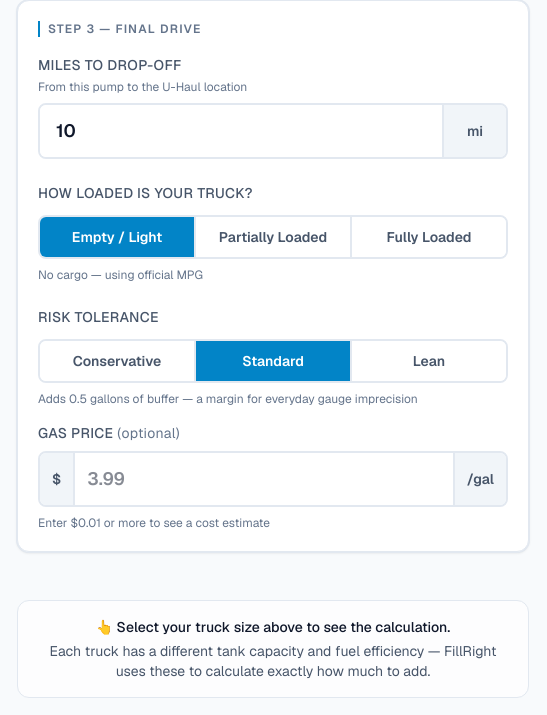
Test: Home page › risk tolerance selector › updates description when switching to Conservative
(page scrolled)
Click the radio button labelled "Conservative".
click(118, 360)  # box [40,340,196,380]
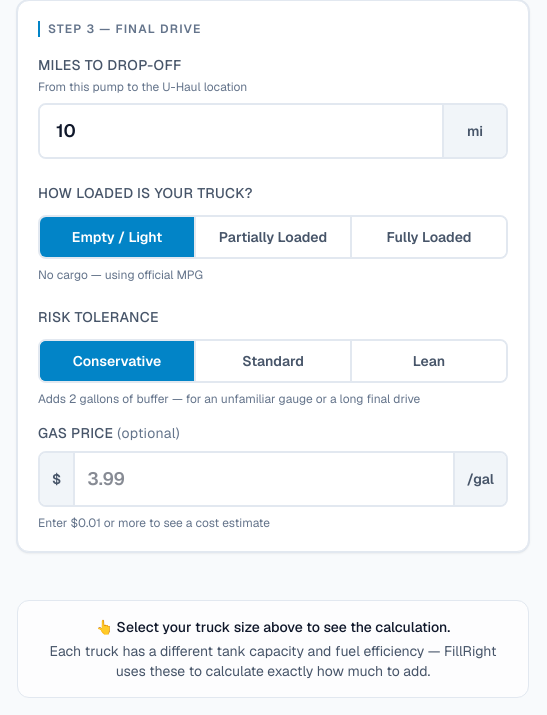
Result: the text "2 gallons of buffer" is shown at [38,390,420,406]
